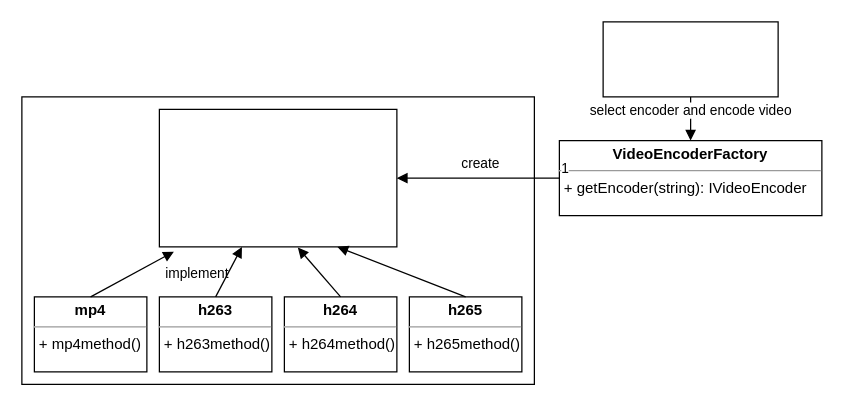
The diagram is 844 pixels wide and 406 high, and some of its shapes have lost their labels. Each missing label, with the centre of its shape:
"<<Interface>> IVideoEncoder + CodecInit() + Configure() + Load() + Unload()" goes at (x=277, y=177).
"App" goes at (x=690, y=59).
